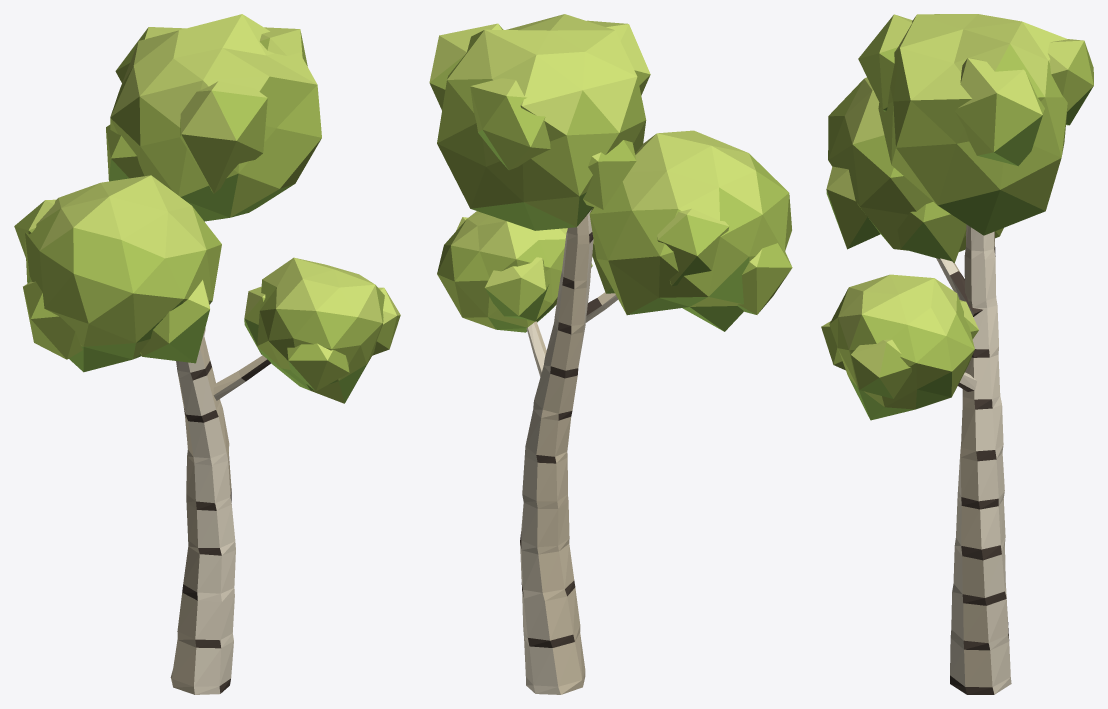
Rendered from FMS_Tree_Birch_S.fbx.
3 views of the same model, side by side, from view 1: azimuth 30°, elevation 25°; view 2: azimuth 150°, elevation 25°; view 3: azimuth 270°, elevation 25° (orthographic). The views are drawn at different scales.
Visible parts, largest first — view 1: FMS_Tree_Birch_S; view 2: FMS_Tree_Birch_S; view 3: FMS_Tree_Birch_S.
Boxes of the visible parts, x1=… form: FMS_Tree_Birch_S: x1=14, y1=14, x2=400, y2=694; FMS_Tree_Birch_S: x1=429, y1=14, x2=792, y2=694; FMS_Tree_Birch_S: x1=821, y1=14, x2=1093, y2=694.
Bounding box in the file's own units: 1.91 × 3.35 × 1.24.
